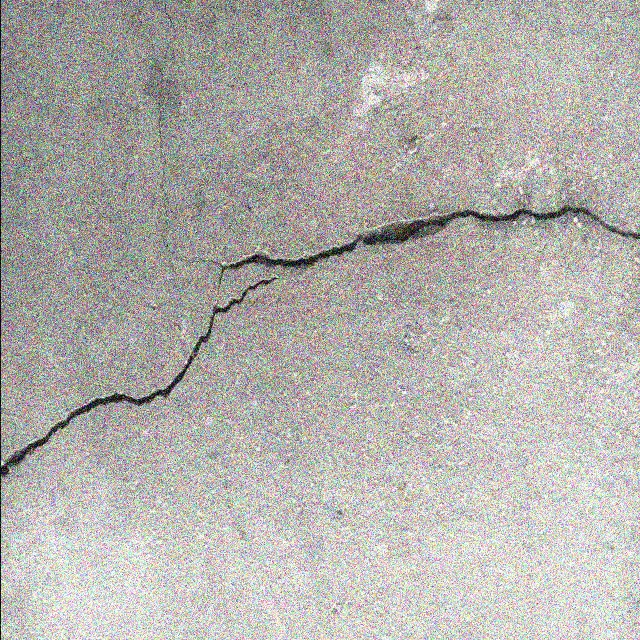SurfaceCrack: (0, 159, 639, 560)
